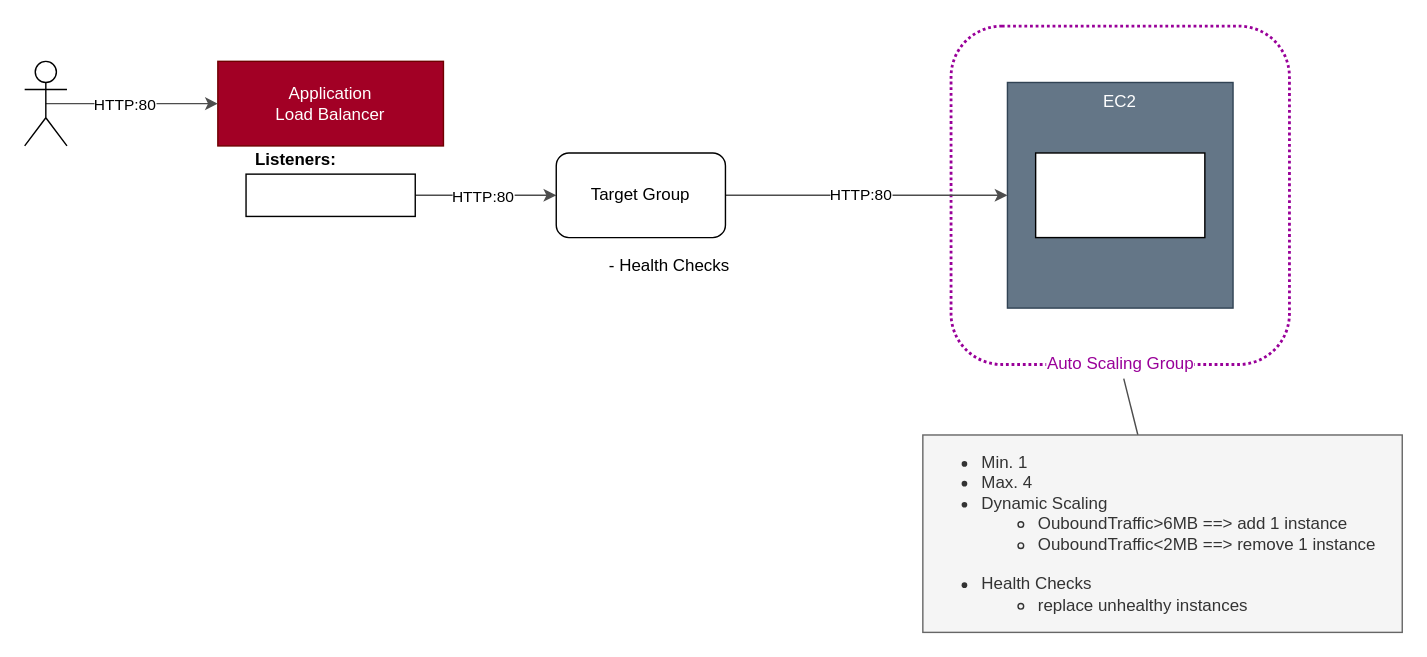
This 1427x657 diagram has some shape labels left out. The shapes that lost their labels are listed below. From the top down, each one's centre as x and y in pixels, then its label:
the point at 330,194: HTTP 80
the point at 1119,195: Spring Boot App (port 5000)
